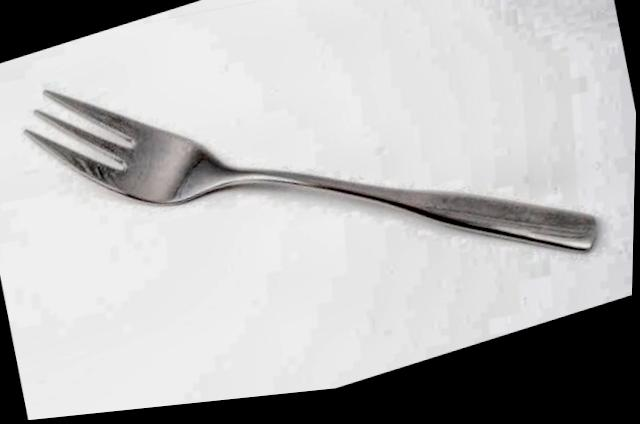Fork: (25, 91, 597, 251)
